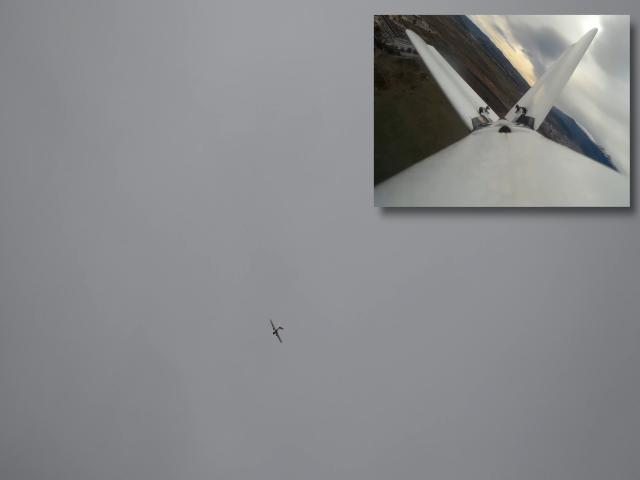plane: (267, 320, 284, 341)
